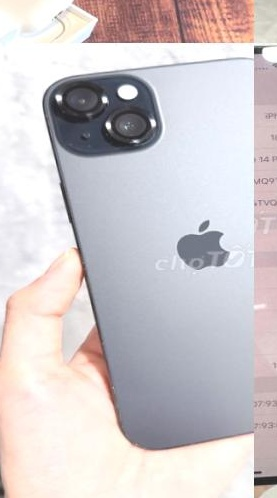scratch: (103, 380, 150, 455)
